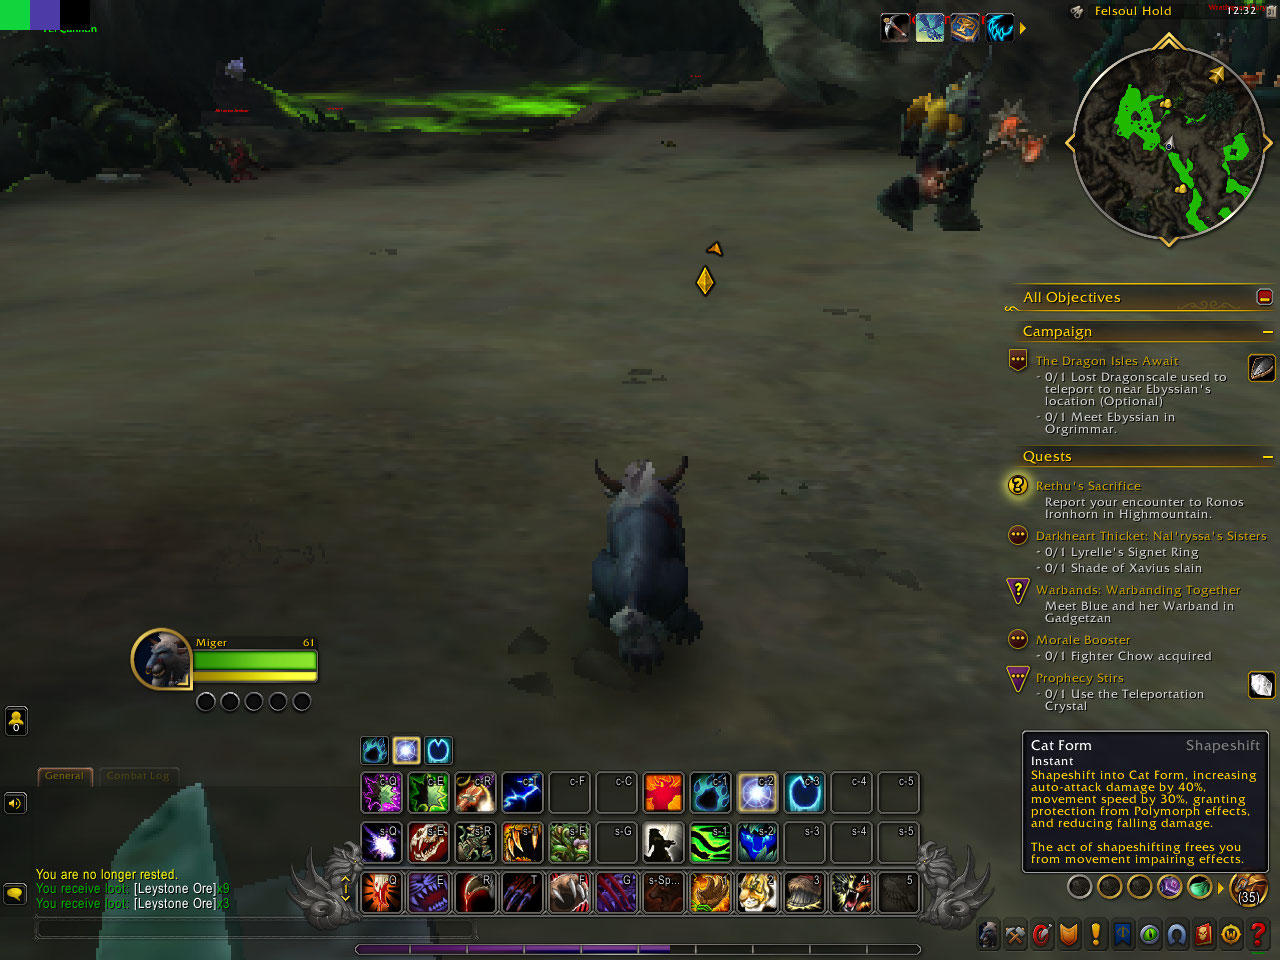ore: (218, 54, 250, 78)
